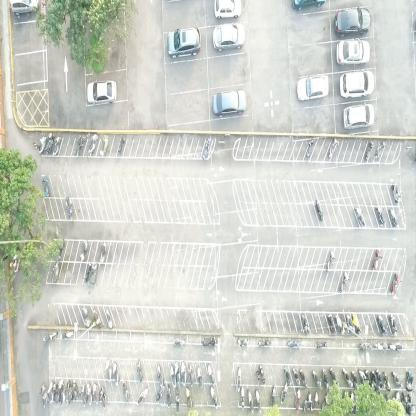car: (333, 6, 372, 38), (166, 26, 201, 58), (211, 89, 247, 118), (211, 23, 245, 53), (339, 71, 375, 99), (342, 102, 376, 130), (296, 74, 330, 102), (335, 40, 371, 66), (87, 79, 117, 106), (213, 0, 244, 19), (8, 0, 40, 17)
